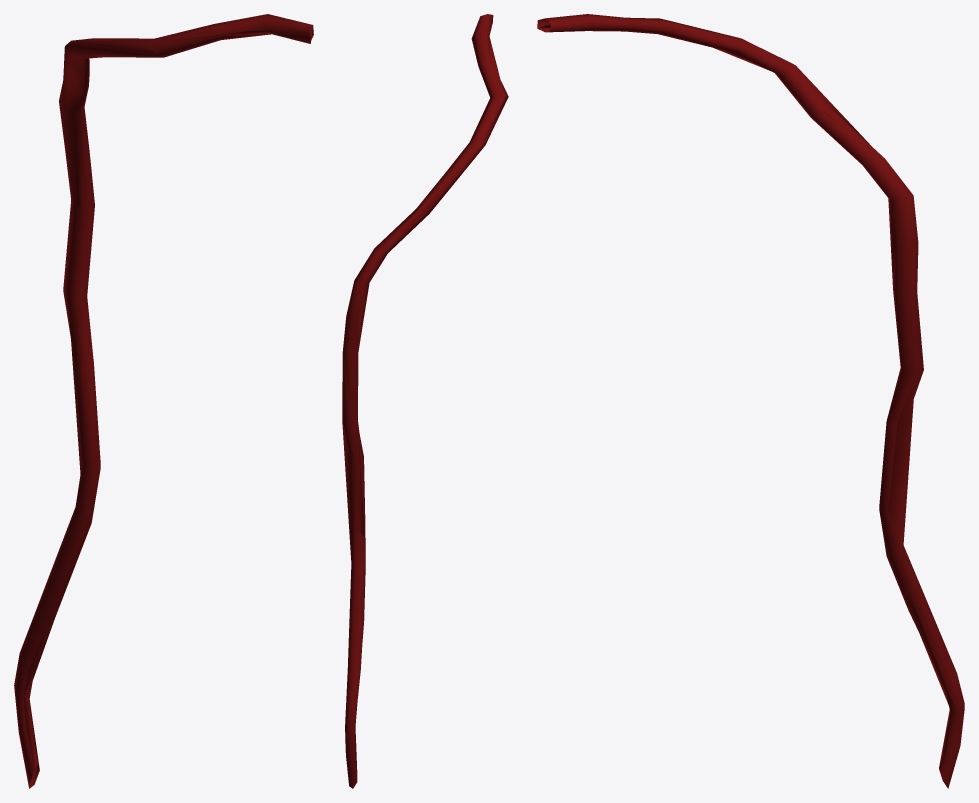
File: R collateralis ulnaris.fbx
3 renders of one model, left to right at view 1: azimuth 30°, elevation 25°; view 2: azimuth 150°, elevation 25°; view 3: azimuth 270°, elevation 25°, orthographic. The views are drawn at different scales.
Parts seen in each view (by area): view 1: R collateralis ulnaris, R collateralis ulnaris low; view 2: R collateralis ulnaris, R collateralis ulnaris low; view 3: R collateralis ulnaris, R collateralis ulnaris low.
Part boxes in pixels (bbox=[...]): R collateralis ulnaris: bbox=[14, 14, 313, 788]; R collateralis ulnaris low: bbox=[22, 25, 312, 787]; R collateralis ulnaris: bbox=[342, 14, 508, 788]; R collateralis ulnaris low: bbox=[342, 17, 508, 765]; R collateralis ulnaris: bbox=[537, 14, 964, 788]; R collateralis ulnaris low: bbox=[537, 19, 964, 787].
Size of the model in its own units: 2.34 by 18.06 by 8.87.
